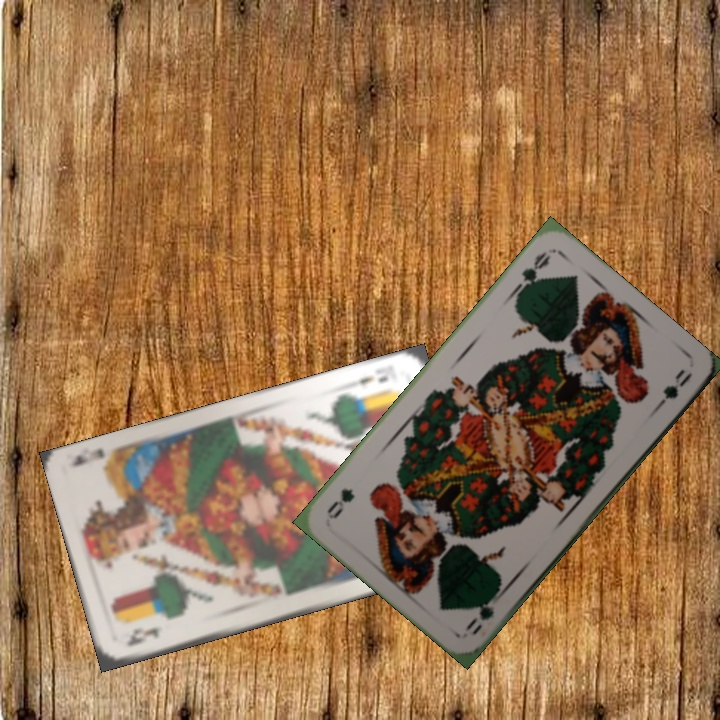EK: (122, 623, 165, 649), (346, 372, 391, 390)
GO: (508, 246, 554, 300), (461, 585, 507, 638)
